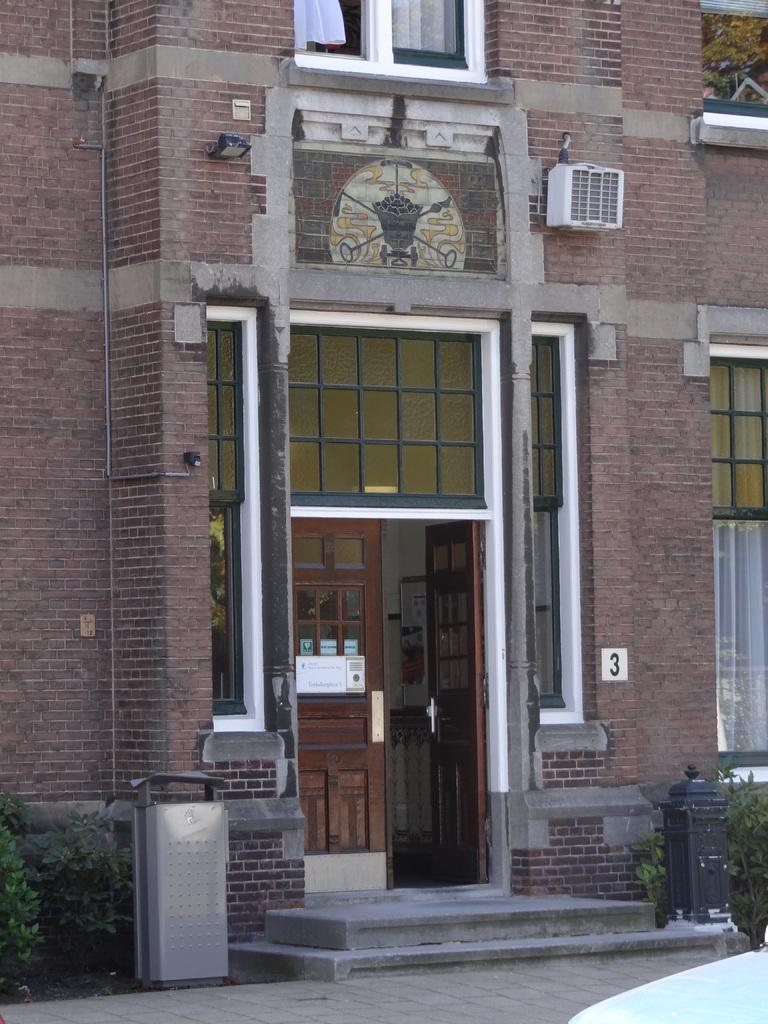handle: (424, 697, 439, 738)
